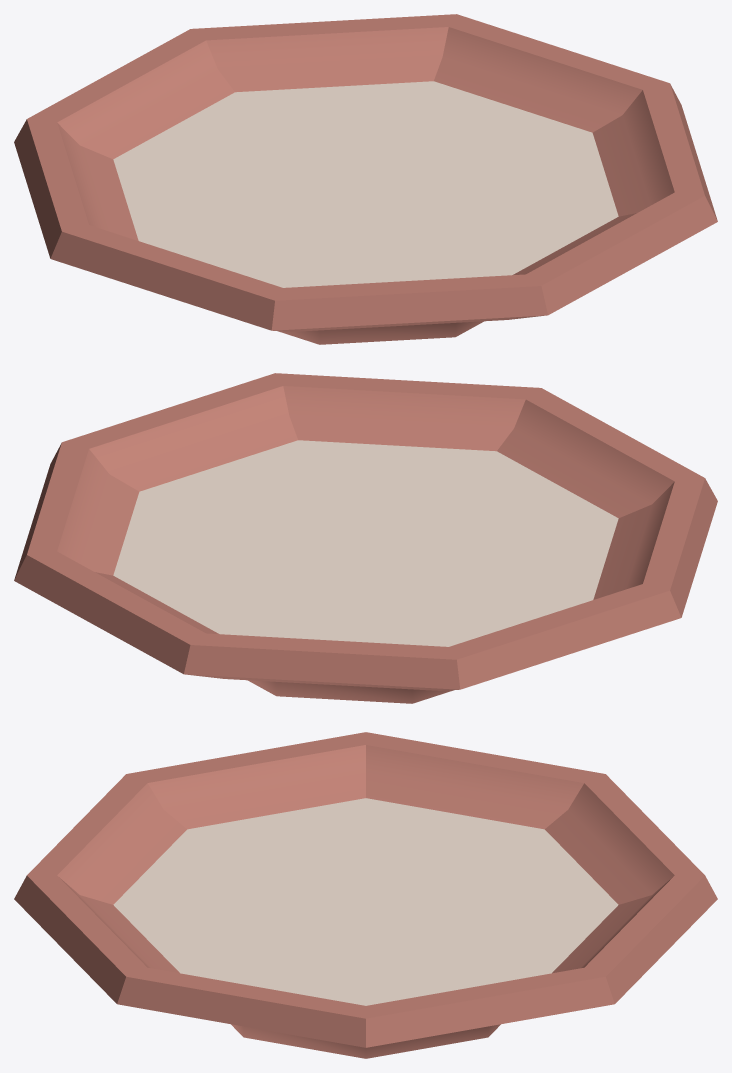
File: pigment_white.glb
3 views of the same model, one above another, from view 1: azimuth 30°, elevation 25°; view 2: azimuth 150°, elevation 25°; view 3: azimuth 270°, elevation 25° (orthographic). The views are drawn at different scales.
Visible parts, largest first — view 1: polySurface1, pCylinder4; view 2: polySurface1, pCylinder4; view 3: polySurface1, pCylinder4.
Part boxes in pixels (box(x1,y1,x2,y2)): polySurface1: box(14, 14, 717, 344); pCylinder4: box(113, 81, 618, 287); polySurface1: box(14, 373, 717, 703); pCylinder4: box(113, 440, 618, 646); polySurface1: box(14, 732, 717, 1058); pCylinder4: box(113, 798, 618, 1005).
Bounding box in the file's own units: 0.0168 × 0.0029 × 0.0168.
1 material, 1 textured.
